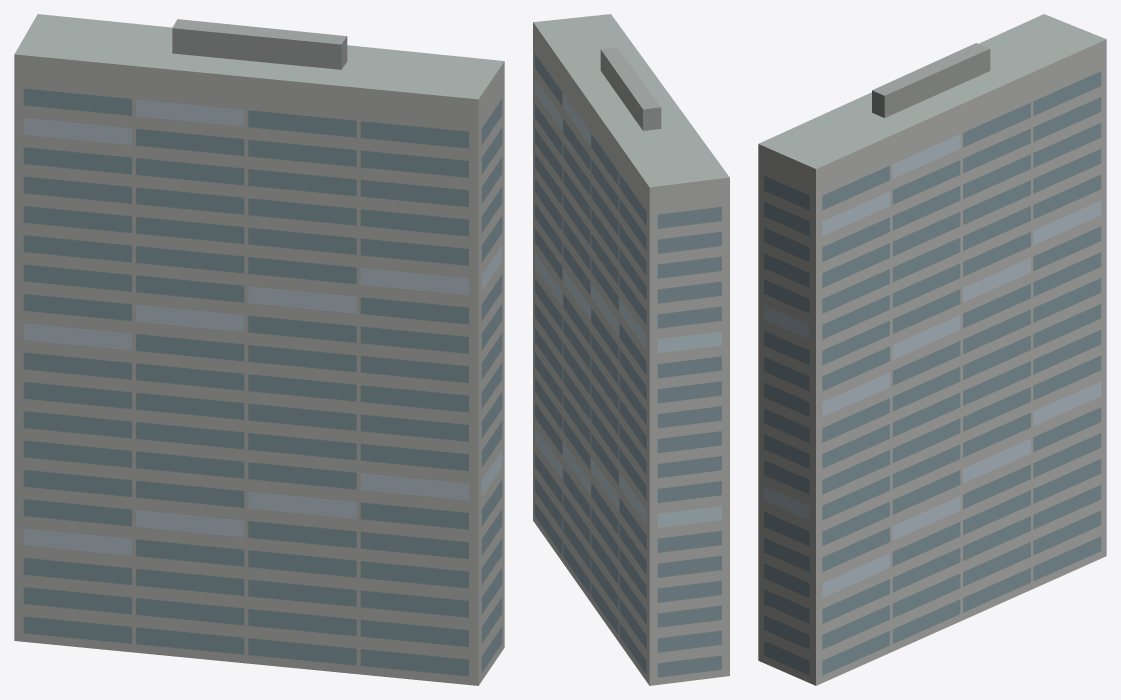
Rendered from fallback-dmc-parkview-xi-303.glb.
3 renders of one model, left to right at view 1: azimuth 30°, elevation 25°; view 2: azimuth 150°, elevation 25°; view 3: azimuth 270°, elevation 25°, orthographic. The views are drawn at different scales.
Parts seen in each view (by area): view 1: fallback-dmc-parkview-xi-303; view 2: fallback-dmc-parkview-xi-303; view 3: fallback-dmc-parkview-xi-303.
Part boxes in pixels (x1=…): fallback-dmc-parkview-xi-303: x1=14, y1=14, x2=504, y2=685; fallback-dmc-parkview-xi-303: x1=533, y1=14, x2=729, y2=685; fallback-dmc-parkview-xi-303: x1=758, y1=14, x2=1106, y2=685.
Bounding box in the file's own units: 35.79 × 58 × 33.97.
